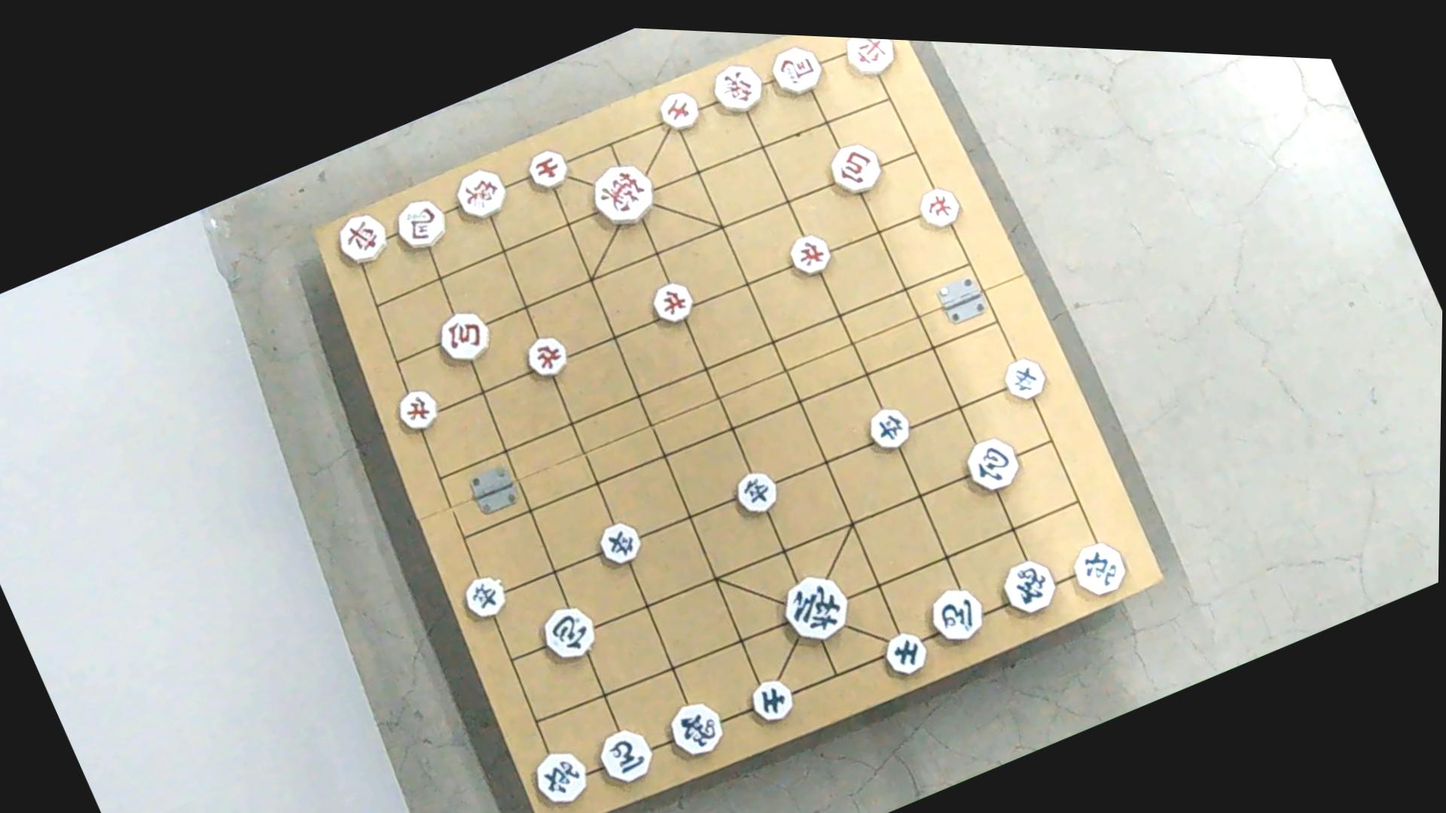cha_green: (526, 744, 596, 811), (1063, 537, 1132, 604)
cha_red: (331, 208, 395, 270), (838, 38, 902, 80)
jol_green: (456, 571, 514, 625), (862, 403, 917, 457), (727, 467, 783, 520), (590, 519, 645, 572), (996, 355, 1048, 405)
jol_red: (390, 385, 445, 437), (648, 277, 702, 329), (782, 230, 836, 282), (521, 333, 575, 384), (911, 184, 965, 233)
ma_green: (588, 726, 658, 794), (925, 583, 993, 651)
ma_red: (386, 193, 453, 257), (767, 40, 829, 101)
po_green: (957, 434, 1024, 500), (536, 601, 602, 665)
po_red: (432, 307, 496, 370), (822, 141, 886, 202)
sa_green: (743, 675, 798, 729), (878, 629, 932, 682)
sa_red: (651, 87, 705, 139), (521, 145, 573, 193)
sang_green: (658, 691, 731, 766), (996, 553, 1066, 623)
sang_red: (705, 58, 770, 122), (447, 165, 512, 228)
wang_green: (773, 569, 857, 650)
wang_red: (584, 159, 660, 233)
